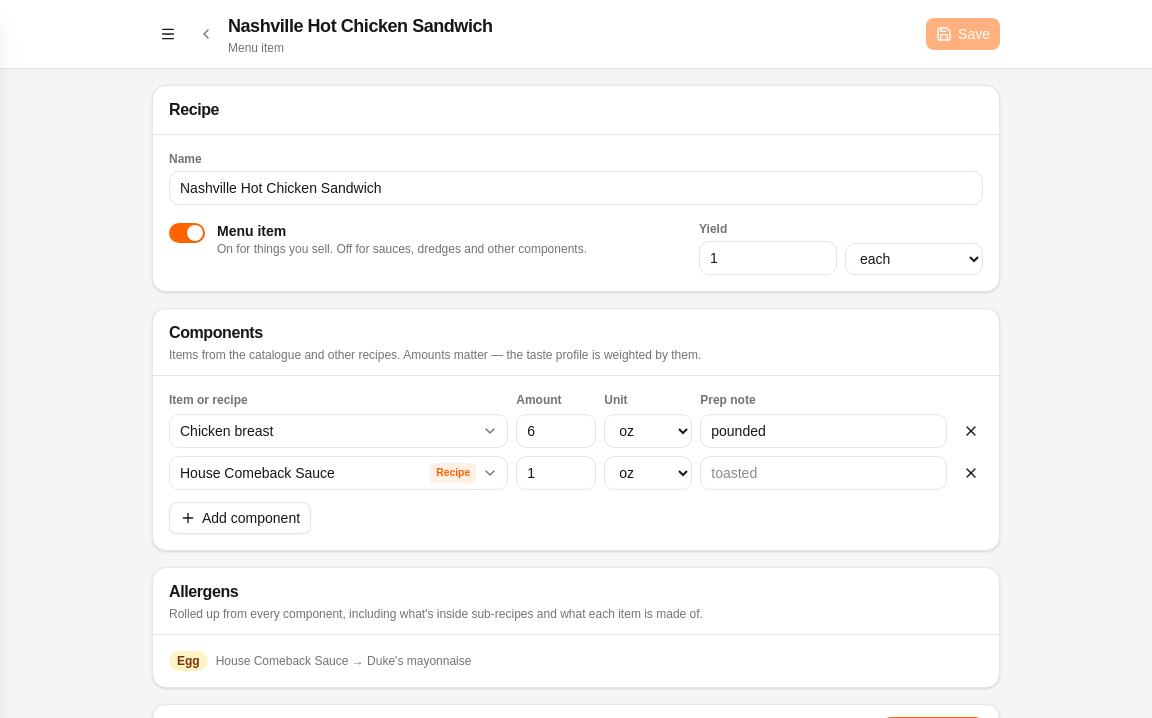
Test case: RecipeBuilder › finds an item by its code, which is what is printed on the case
The image size is (1152, 718).
Click the button "Add component": (240, 518) [169, 502, 311, 534]
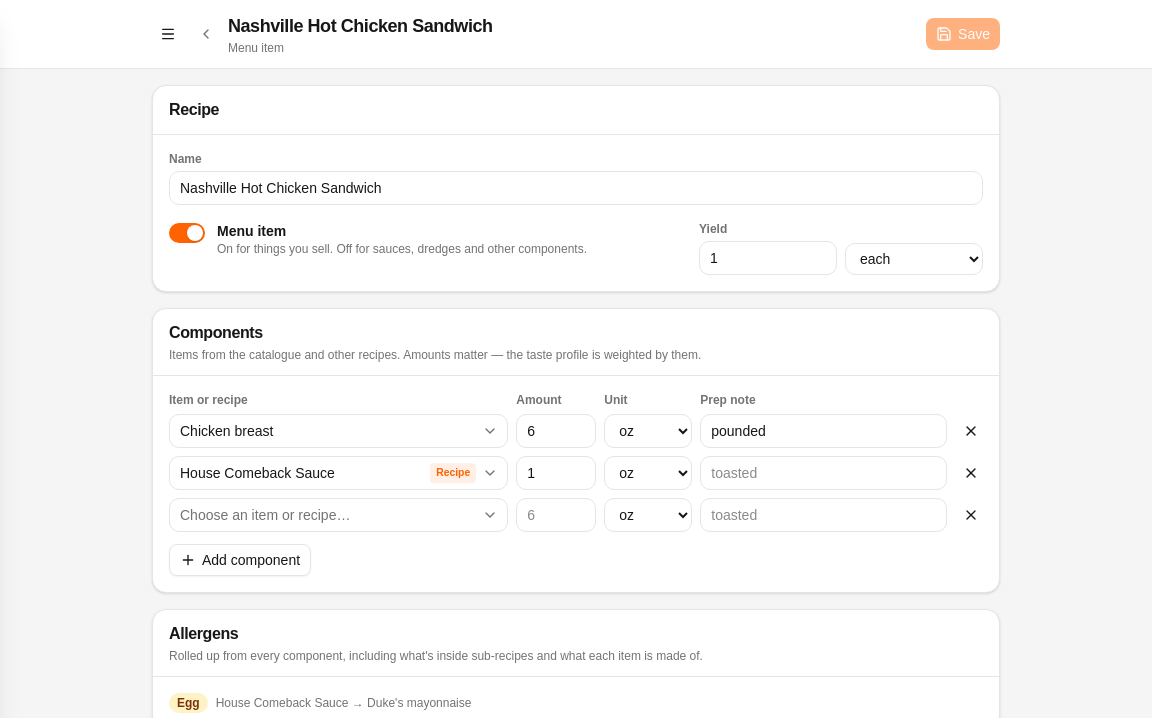
In the dropdown named "Component 3": (339, 515) [169, 498, 508, 532], type "raw-0003"
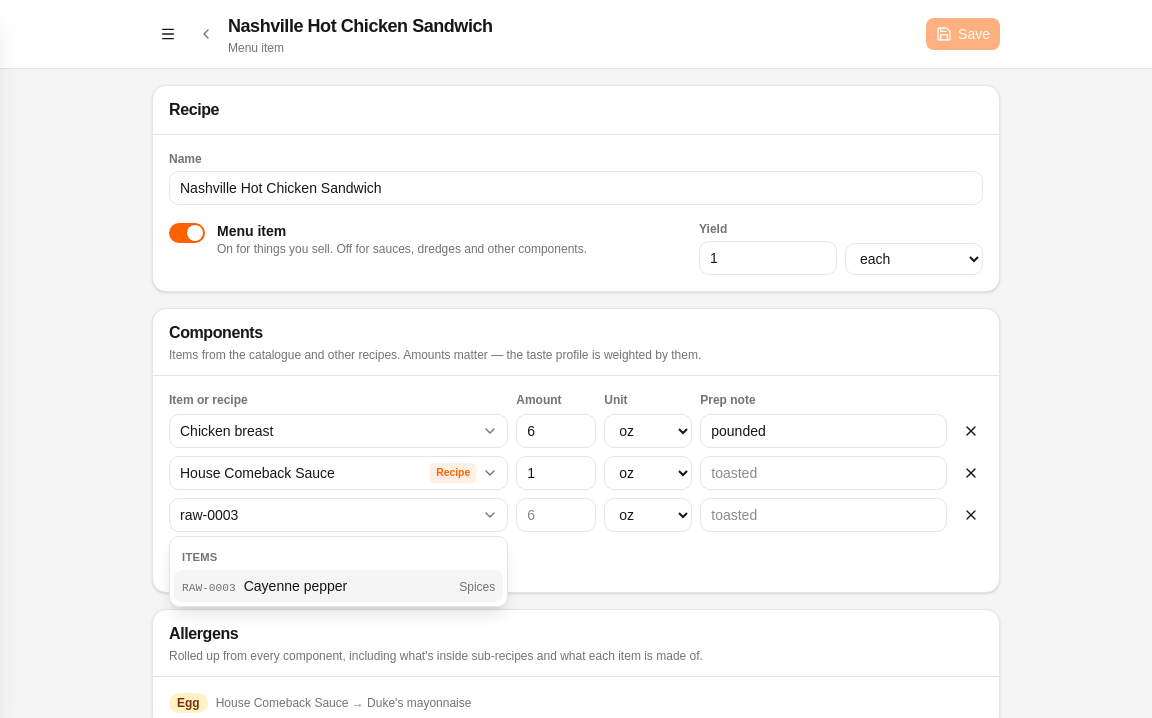
Result: the options read "RAW-0003Cayenne pepperSpices", in this order at [174, 570, 503, 602]
